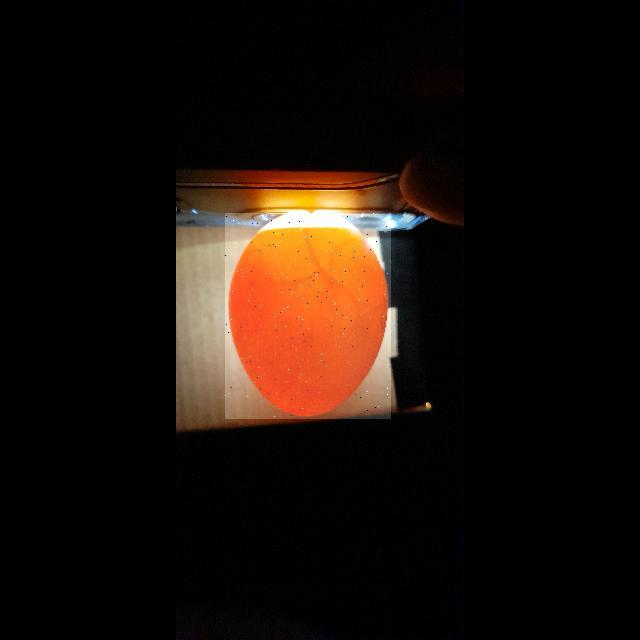Fertile: (225, 213, 391, 419)
